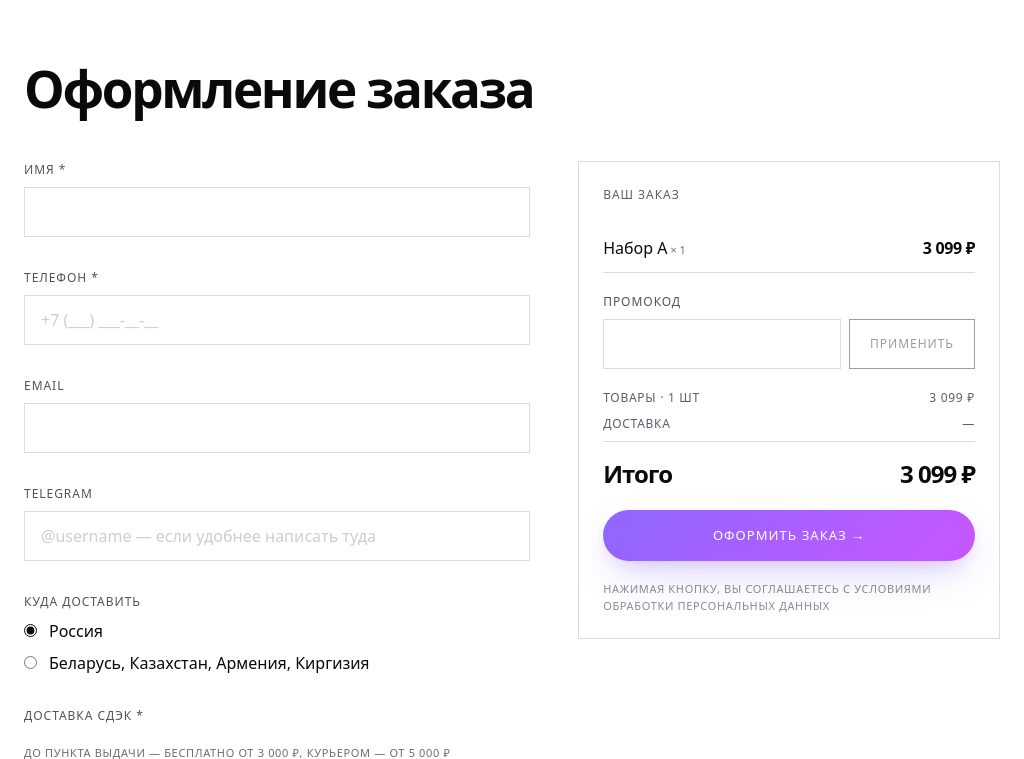
Test: /checkout page › промокод › применённый код показывает скидку и новый итог
The width and height of the screenshot is (1024, 759).
Type " renata2026 " into the field labelled "Промокод".
click(722, 344); type(" renata2026 ")  # box [603,319,841,369]
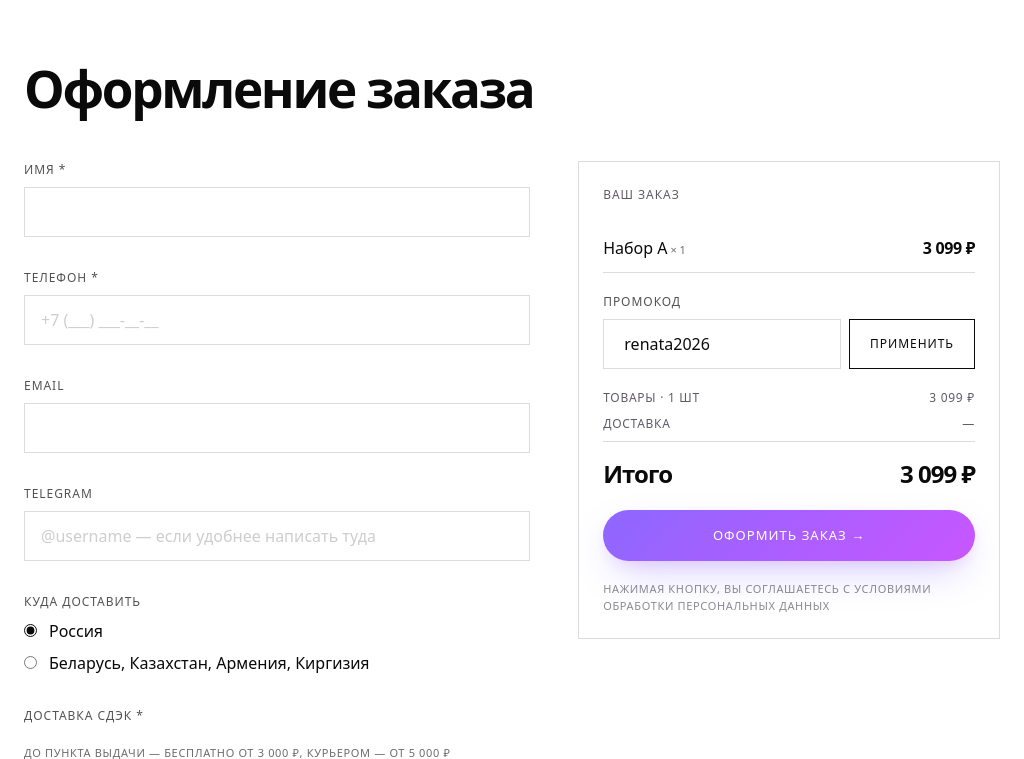
Click the button "Применить".
click(912, 344)  # box [849,319,975,369]
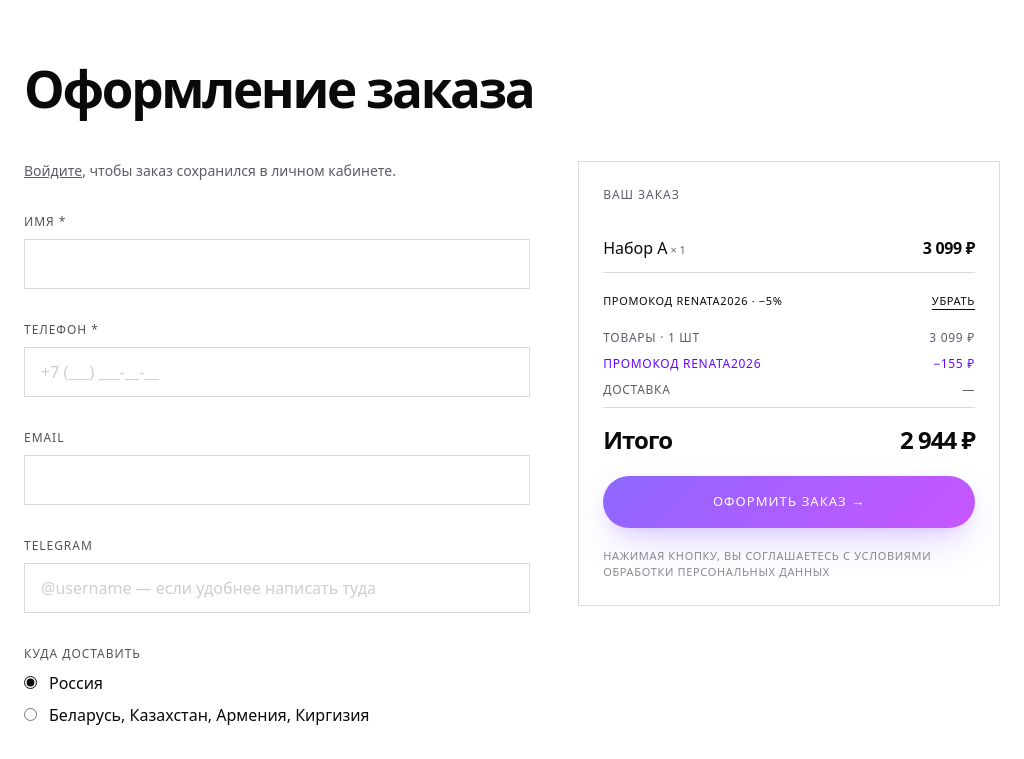
Expected: the element with test id "summary-promo" shows "155", [941,355,975,372]
Expected: the element with test id "summary-promo" shows "RENATA2026", [683,355,761,372]
Expected: the text with test id "summary-total" shows "2 944", [900,423,975,456]
